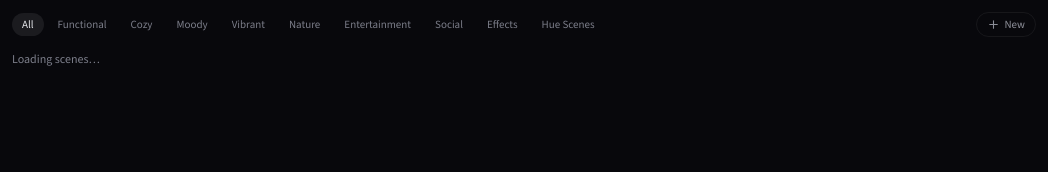
Scenario: SceneBrowser provenance and fetch states › shows loading instead of empty results while each request is pending
Expected: the text "Loading scenes…" is shown, [12,51,100,67]
Click the button "Effects".
click(502, 24)  # box [477,13,528,36]
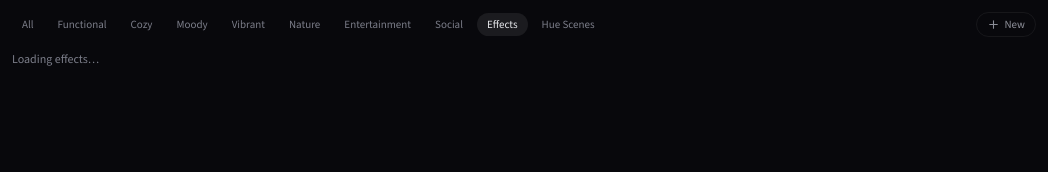
Now the text "Loading effects…" is shown, box [12,51,99,67]
